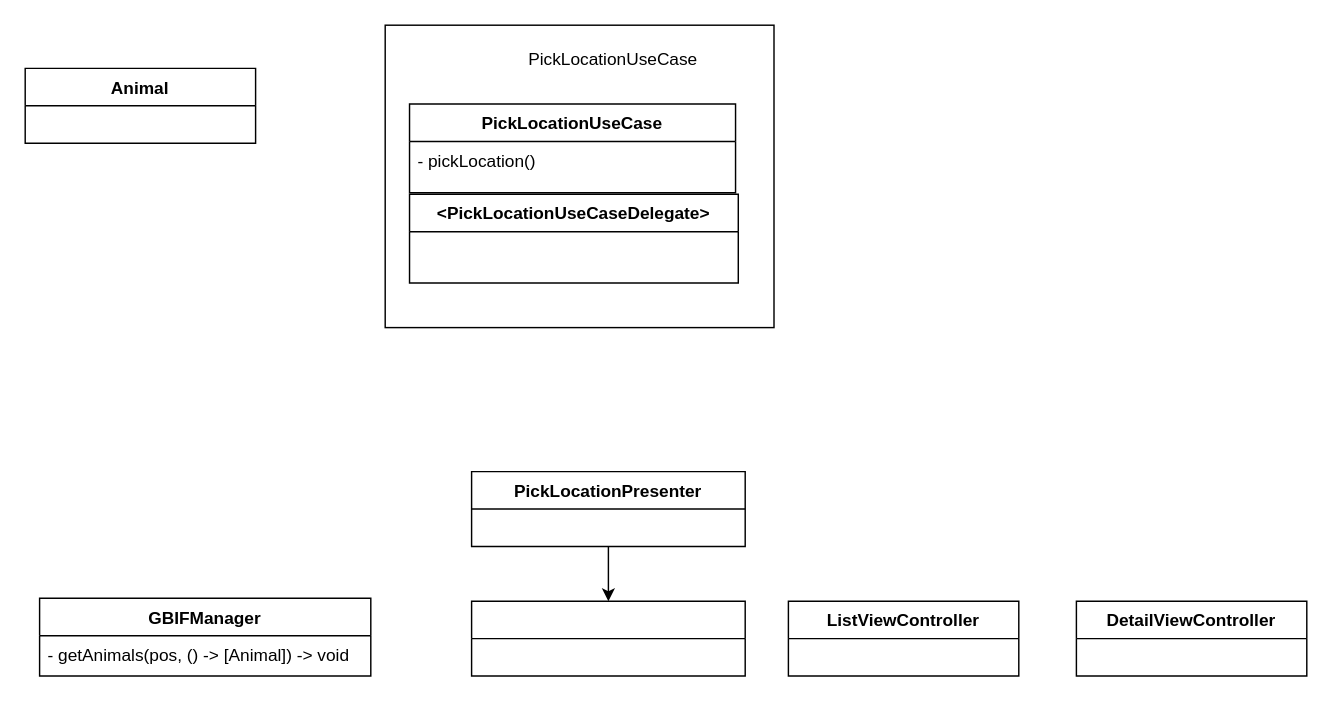
The diagram is 1332 pixels wide and 706 high, and some of its shapes have lost their labels. Here are the shapes that lost their labels. From the top down, the centre of each, then its label:
point (573, 238): - receivedLocation(pos)
point (607, 638): PickLocationViewController
